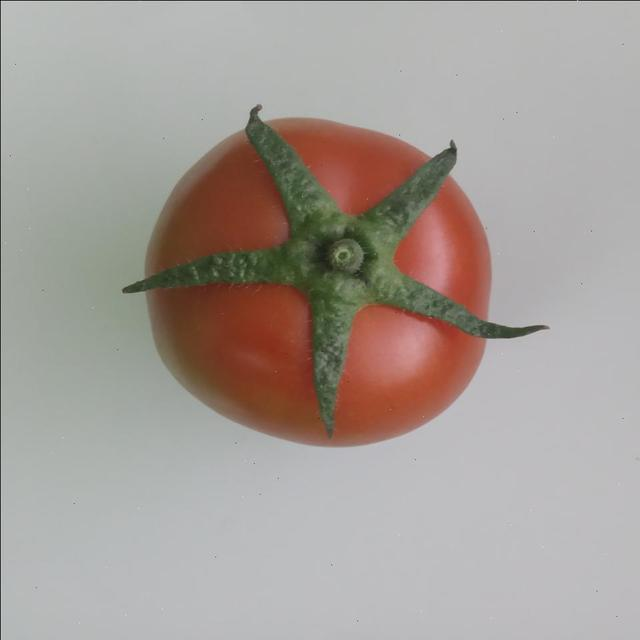Healthy Fruit: (94, 70, 331, 299)
